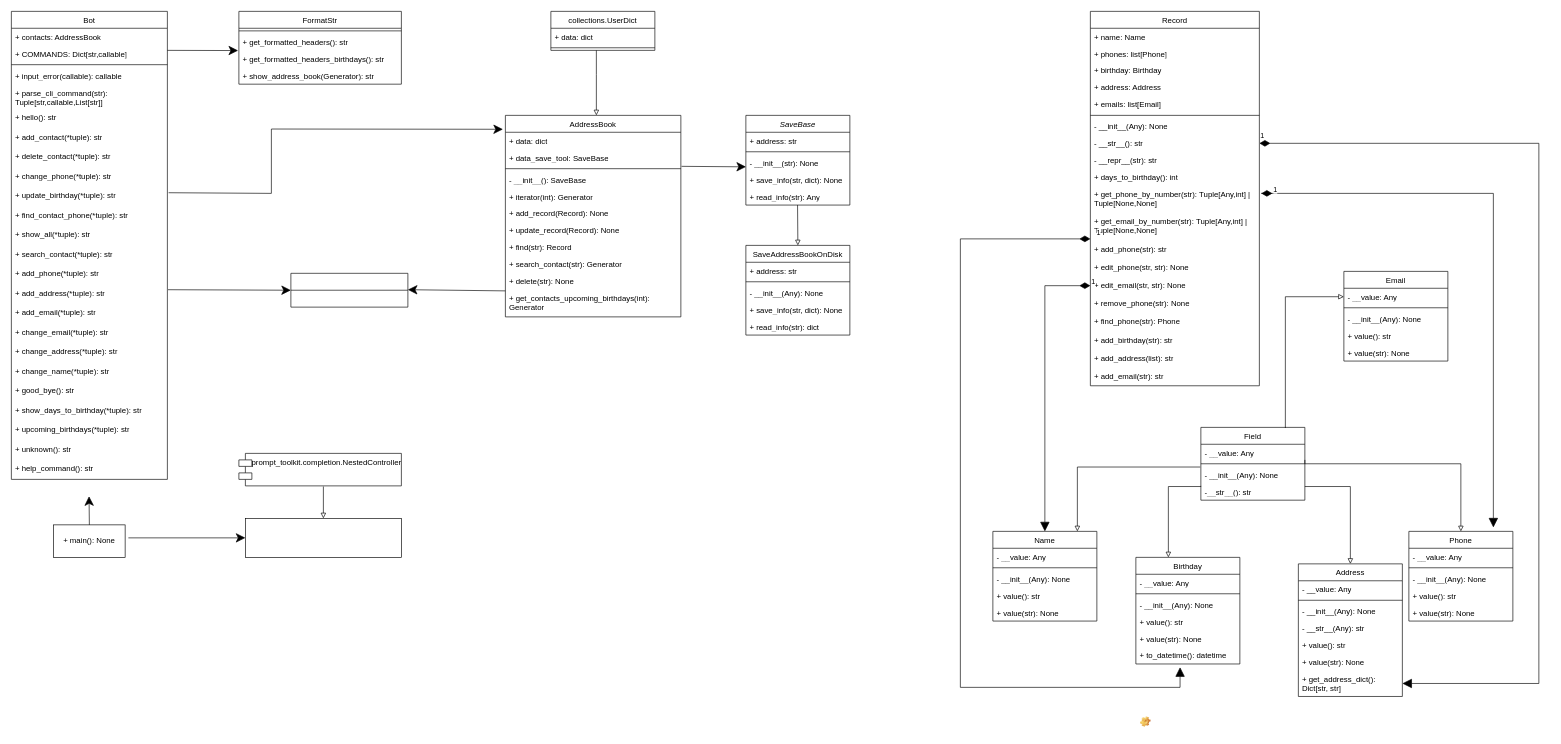
Some shapes in this 1561 by 744 pixel diagram are drawn without their labels. The shapes that lost their labels are listed below. From the top down, each one's centre as x and y in pixels, then its label:
(349,290): RecordAlreadyExistsException
(323,537): + get_nested_controller(): NestedController
(1197,721): DATE_FORMAT: str
